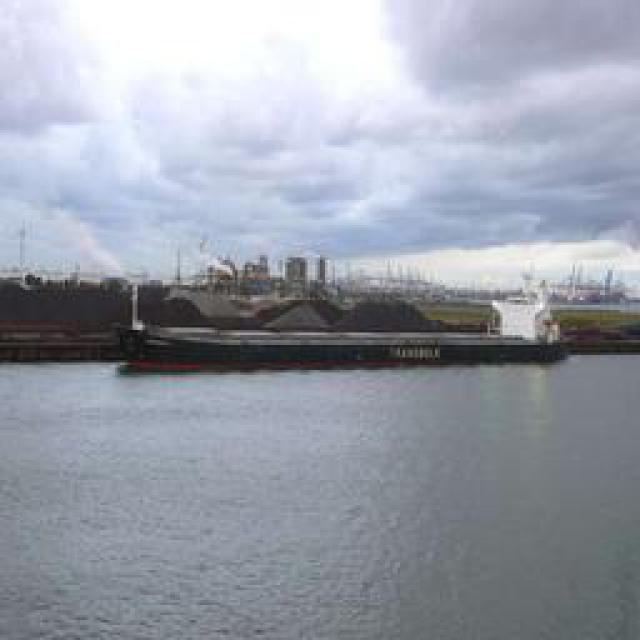Ship: (114, 310, 567, 375)
